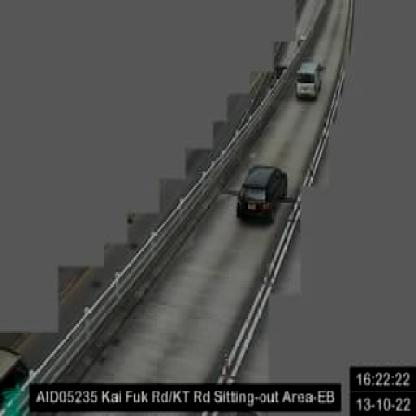Car: (235, 163, 287, 223), (295, 58, 326, 101)
